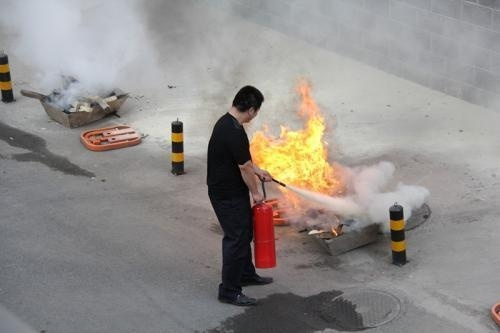fire: (248, 81, 343, 197)
